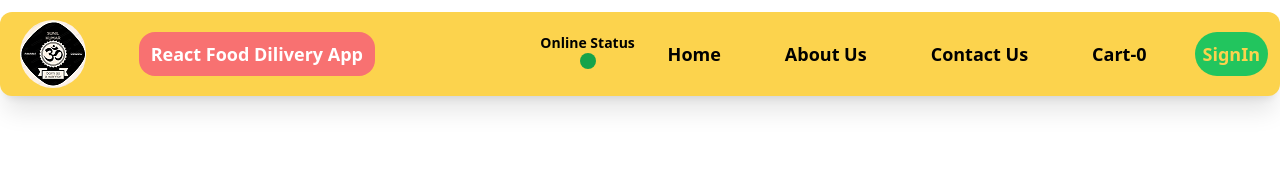
Scenario: should change the SignIn to SignOut on clicking the signIn button
Click the button "SignIn" at point(1231, 54), box x1=1194 y1=32 x2=1268 y2=76
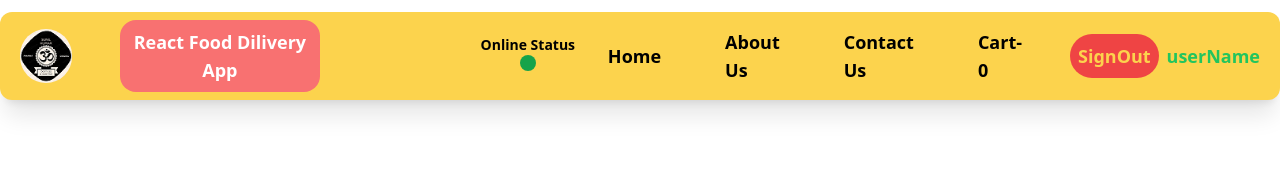
Now the button "SignOut" is shown, box x1=1070 y1=34 x2=1159 y2=78
